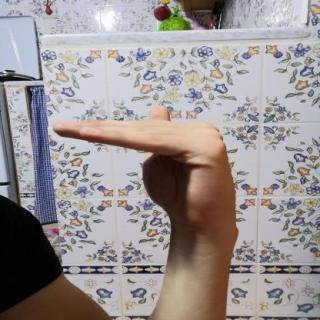KHAA: (43, 100, 249, 239)
